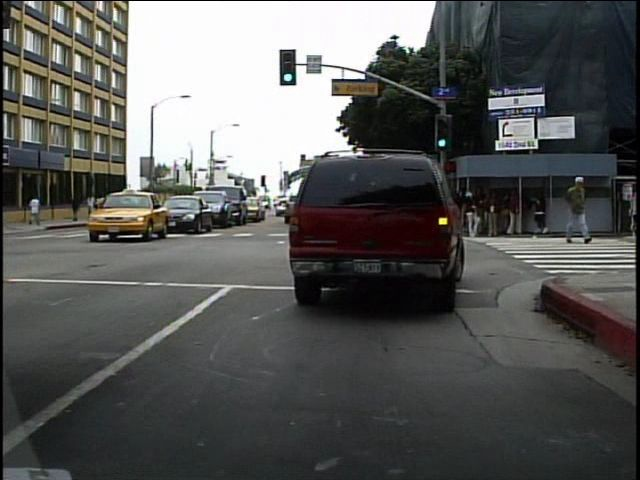person: (563, 169, 590, 247), (26, 193, 44, 229)
